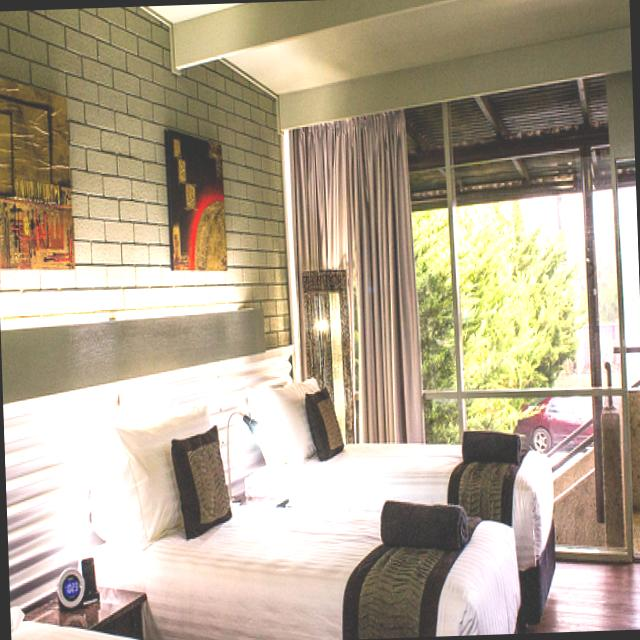Vehicle: (513, 396, 593, 450)
